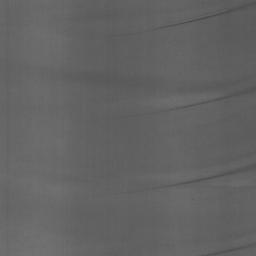Crease: (112, 1, 256, 38), (146, 86, 256, 114), (154, 163, 256, 190), (200, 242, 256, 256)
